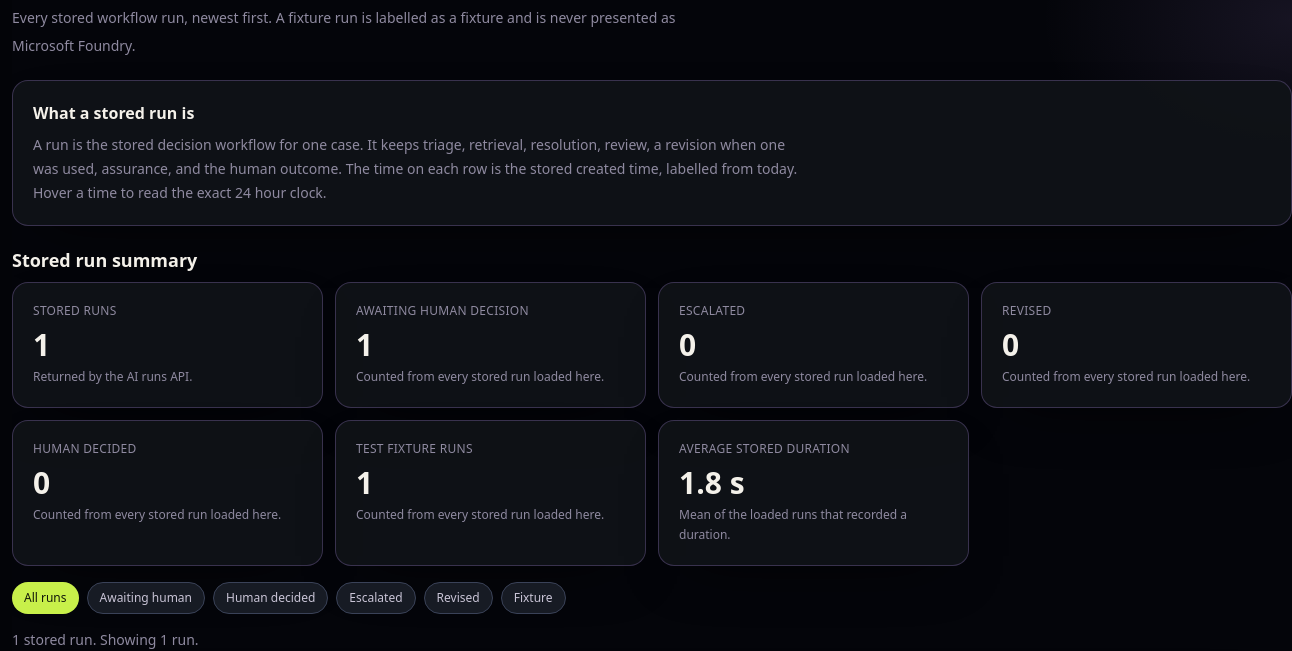
Test case: secondary pages › AiRunsPage › summarises loaded runs and filters them without inventing matches
Expected: the text "Stored runs" is shown, x1=33 y1=302 x2=117 y2=318
Expected: the text "Awaiting human decision" is shown, x1=356 y1=302 x2=529 y2=318
Click the button "Revised" at (458, 598), box x1=424 y1=582 x2=493 y2=614
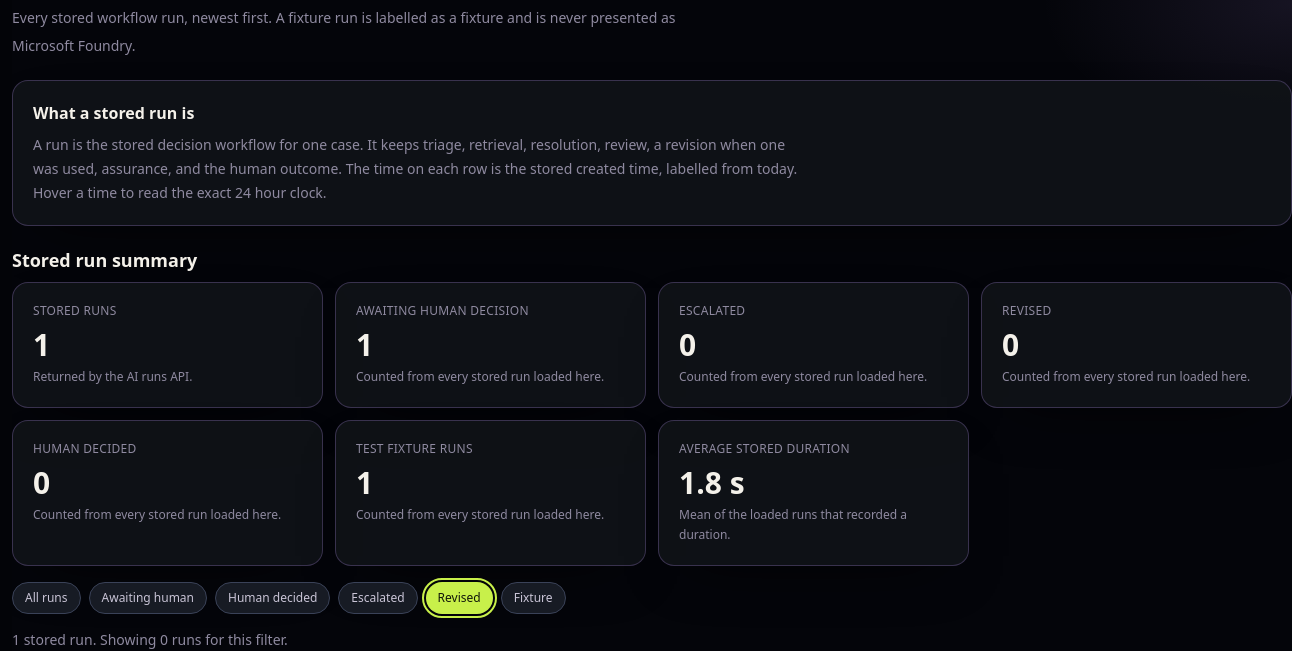
Click the button "All runs" at (46, 598), box x1=12 y1=582 x2=80 y2=614
(page scrolled)
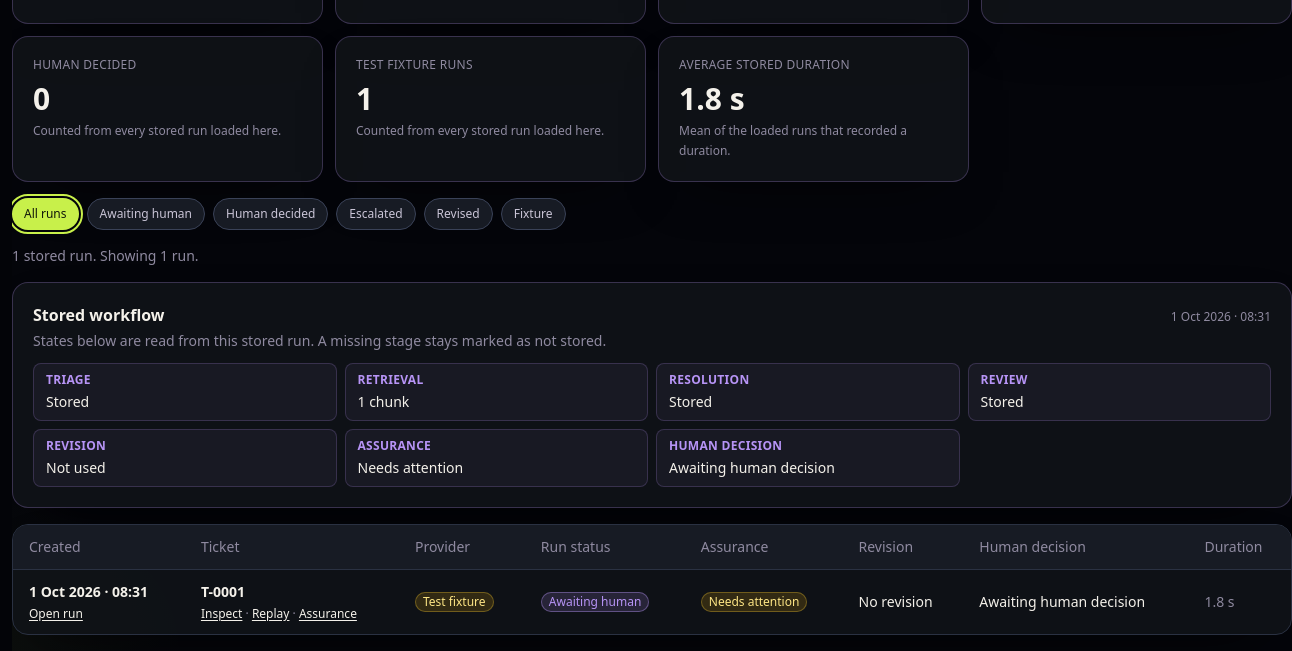
Result: the table is shown at x1=13 y1=524 x2=1291 y2=634
